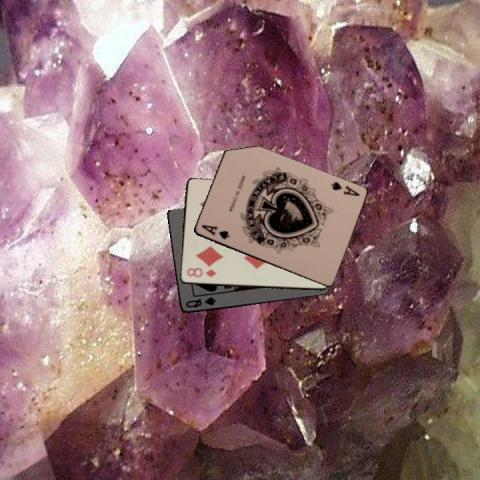8d: (184, 265, 217, 279)
As: (198, 222, 231, 241), (327, 179, 361, 197)
Qs: (183, 294, 217, 309)
